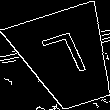L_S: (39, 30, 95, 88)
